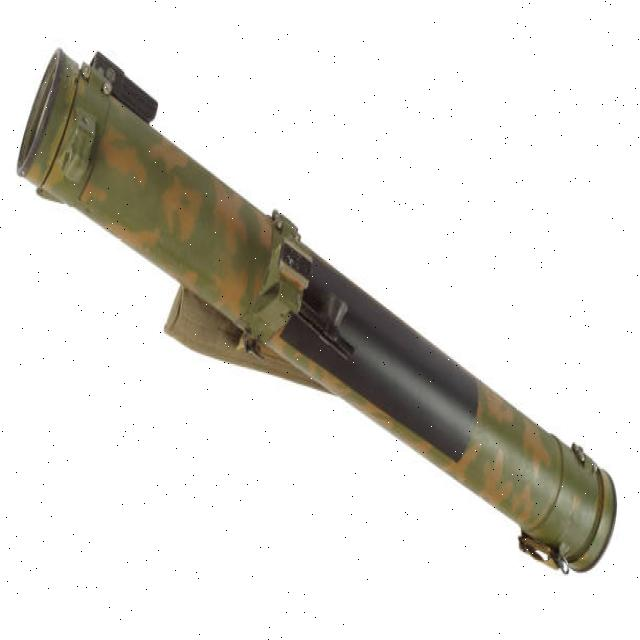bazooka: (8, 33, 622, 584)
